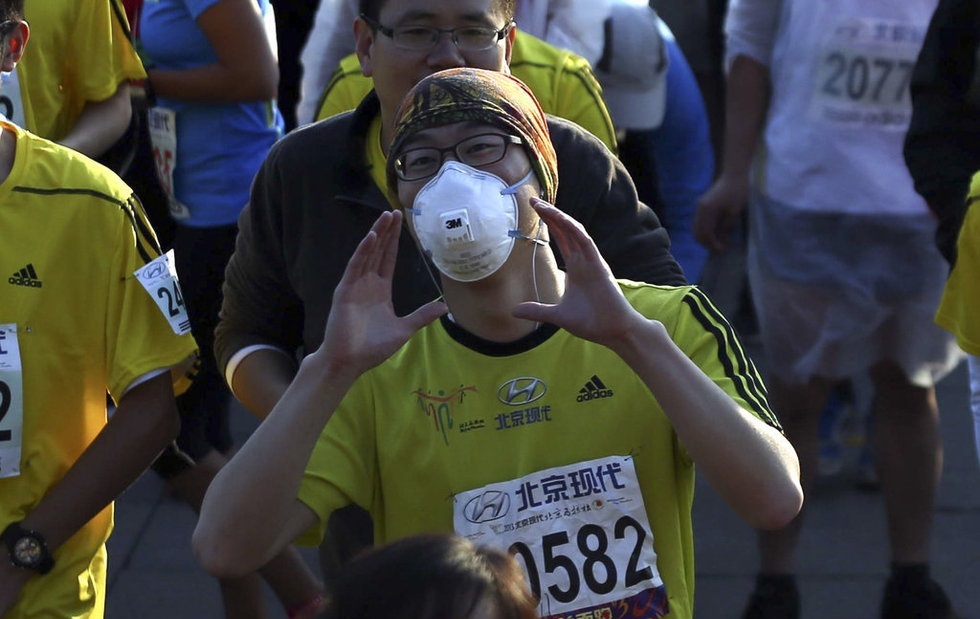face: (371, 1, 504, 129)
face_mask: (400, 128, 545, 280)
